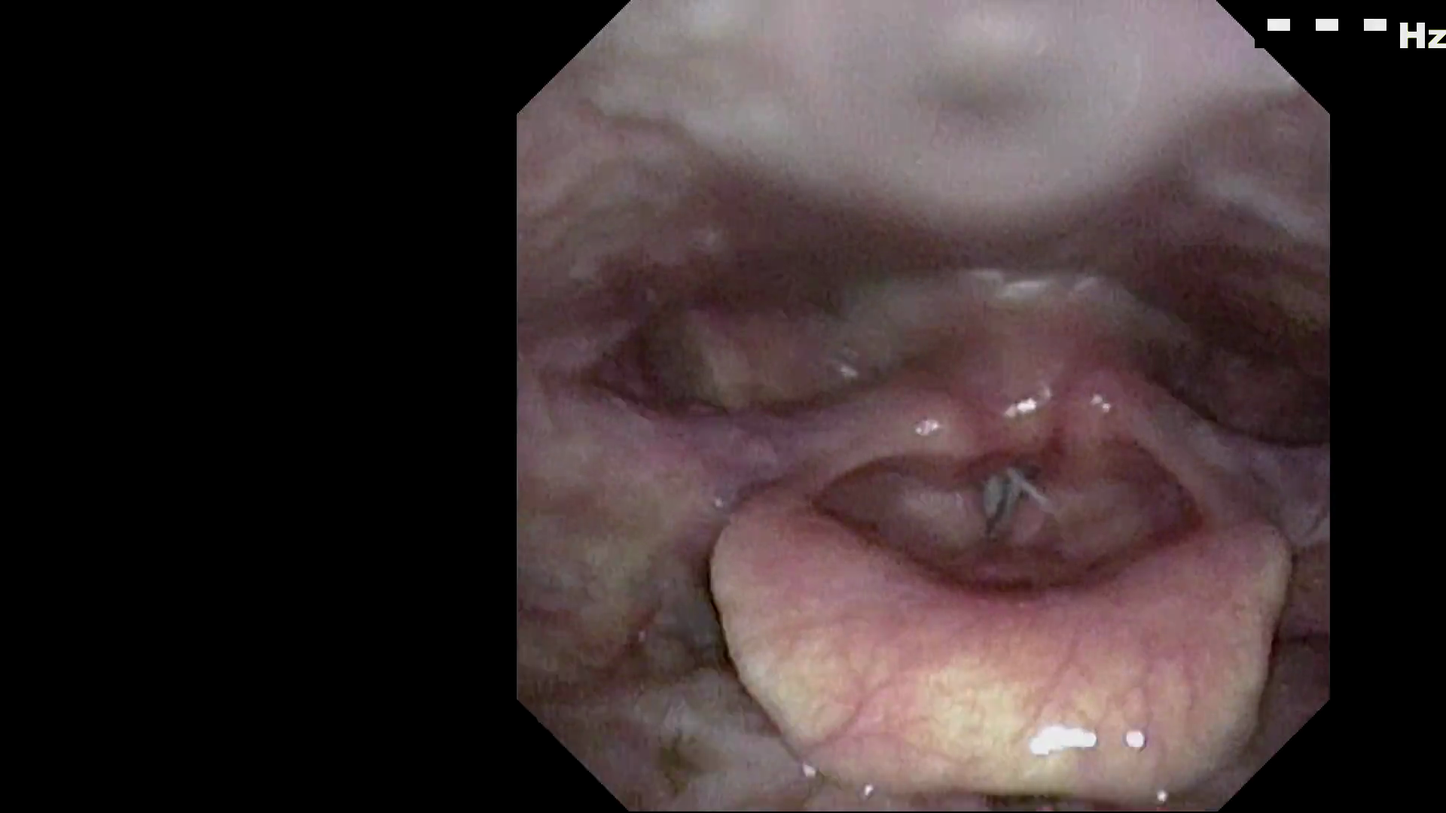epiglottis: (669, 483, 1285, 763)
trachea: (945, 492, 1028, 582)
